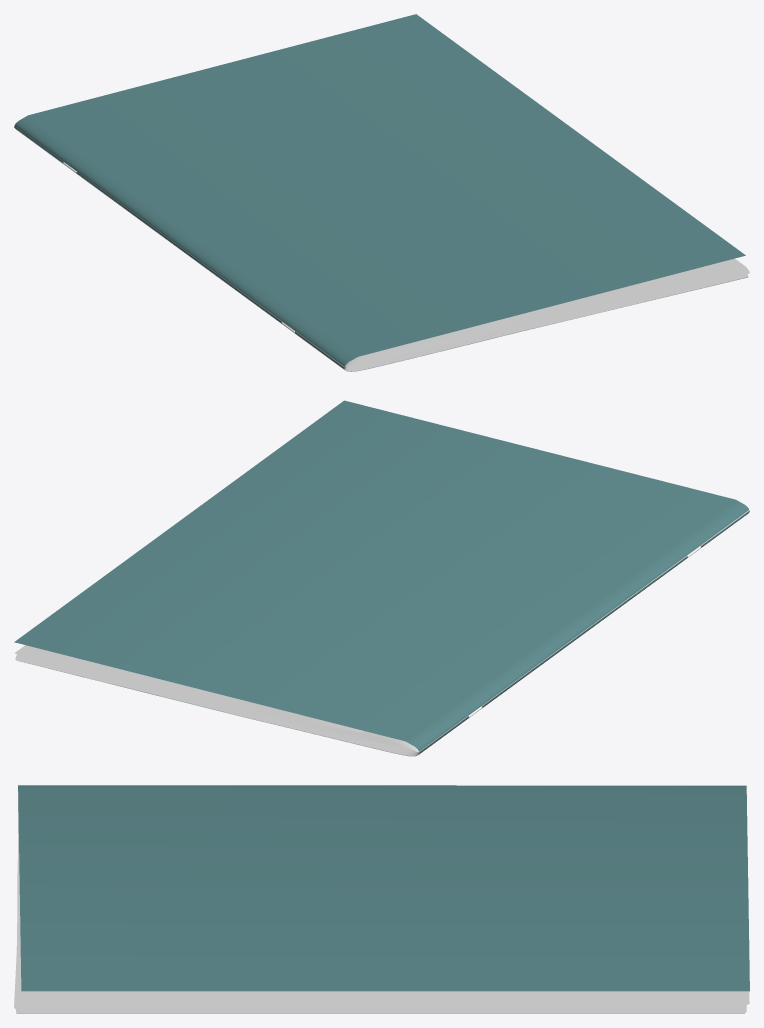
Rendered from samsung.glb.
3 renders of one model, top to bottom at view 1: azimuth 30°, elevation 25°; view 2: azimuth 150°, elevation 25°; view 3: azimuth 270°, elevation 25°, orthographic. The views are drawn at different scales.
Visible parts, largest first — view 1: Cover, Content; view 2: Cover, Content; view 3: Cover, Content.
Part boxes in pixels (box(x1,y1,x2,y2)): Cover: box(14, 14, 747, 371); Content: box(14, 125, 749, 371); Cover: box(14, 400, 749, 756); Content: box(14, 510, 749, 756); Cover: box(16, 785, 749, 1013); Content: box(14, 792, 749, 1013).
Size of the model in its own units: 21.05 by 0.996 by 30.
